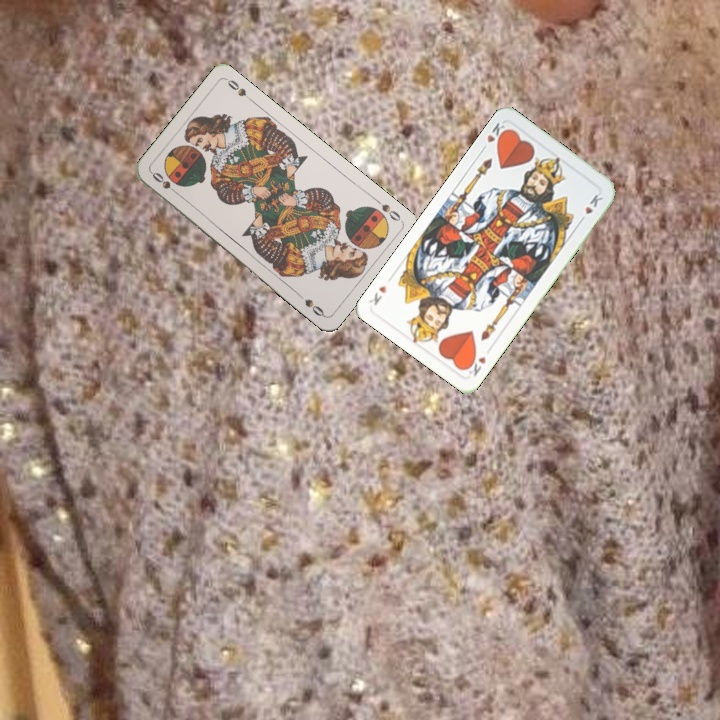HK: (477, 119, 510, 154), (461, 351, 488, 379)
SO: (148, 168, 182, 198), (370, 194, 404, 224)
